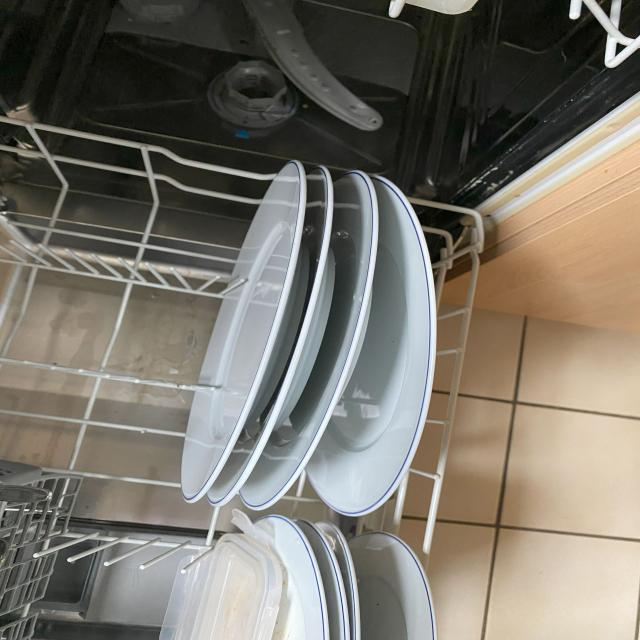empty_slot: (5, 134, 196, 499)
